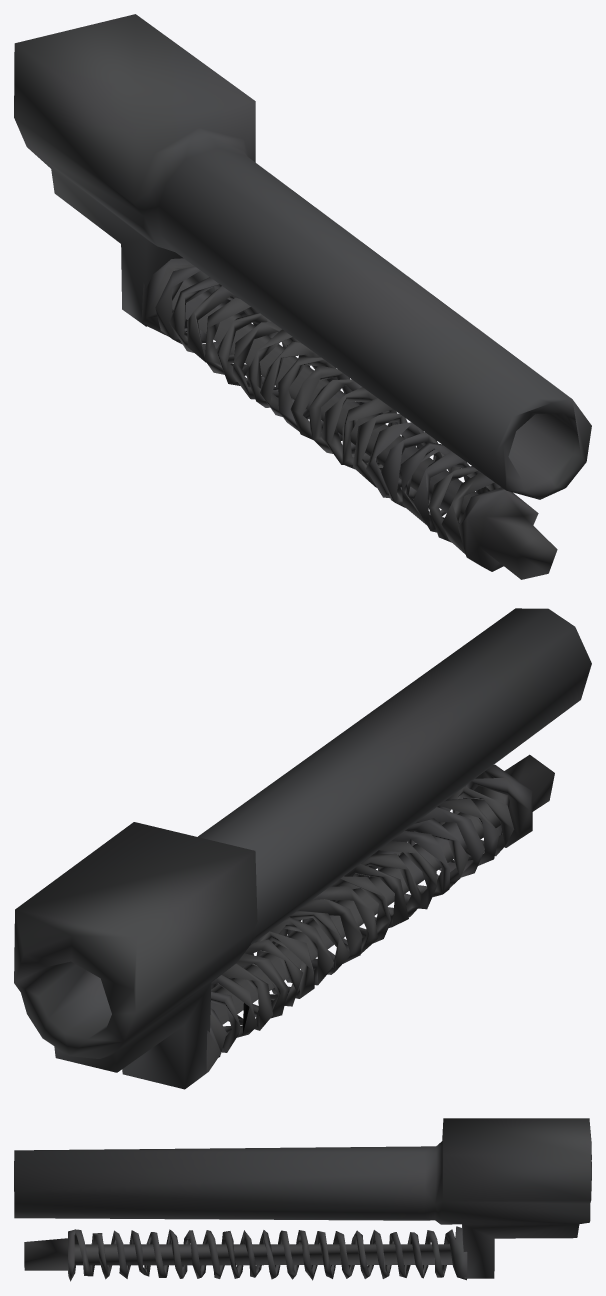
File: SM_G17_Barrel_LOD2.fbx
The picture shows the model from 3 angles, top to bottom: view 1: azimuth 30°, elevation 25°; view 2: azimuth 150°, elevation 25°; view 3: azimuth 270°, elevation 25°; orthographic projection. The views are drawn at different scales.
Parts seen in each view (by area): view 1: SM_G17_Barrel_LOD2; view 2: SM_G17_Barrel_LOD2; view 3: SM_G17_Barrel_LOD2.
Part boxes in pixels (<box>): SM_G17_Barrel_LOD2: <box>14,14,591,579</box>; SM_G17_Barrel_LOD2: <box>14,608,591,1089</box>; SM_G17_Barrel_LOD2: <box>14,1118,591,1281</box>.
Bounding box in the file's own units: 1.69 × 11.21 × 3.04.
